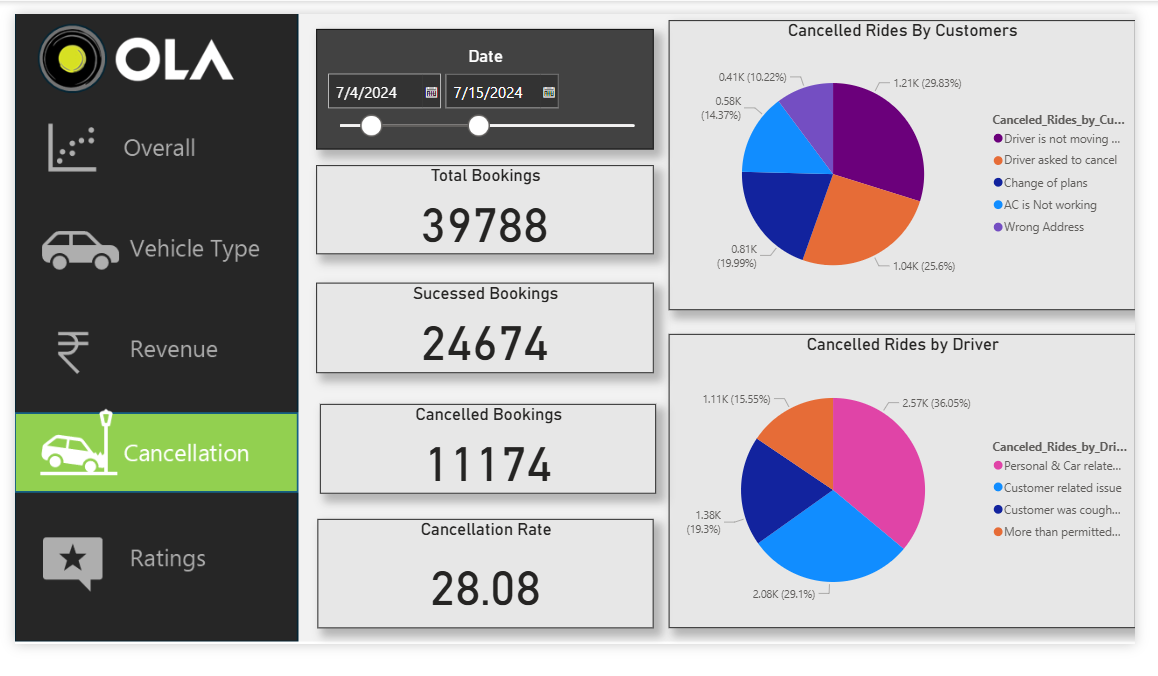

What the dashboard file says about the page in this screenshot:
{"tool":"powerbi","page":{"name":"Cancellation","canvas":[1280,720],"ordinal":3},"visuals":[{"type":"actionButton","box":[0,224.3,325.7,92.9],"z":0},{"type":"actionButton","box":[0,338.6,325.7,92.9],"z":1000},{"type":"actionButton","box":[0,455.7,325.7,92.9],"z":2000},{"type":"actionButton","box":[0,577.1,325.7,92.9],"z":3000},{"type":"actionButton","box":[0,107.1,325.7,92.9],"z":4000},{"type":"pieChart","title":"Cancelled Rides By Customers","fields":{"Category":["July (2).Canceled_Rides_by_Customer"],"Y":["CountNonNull(July (2).Canceled_Rides_by_Customer)"]},"box":[746.4,7.1,533.3,331],"z":5000},{"type":"pieChart","title":"Cancelled Rides by Driver","fields":{"Category":["July (2).Canceled_Rides_by_Driver"],"Y":["CountNonNull(July (2).Canceled_Rides_by_Driver)"]},"box":[746.4,365.5,533.3,335.7],"z":6000},{"type":"slicer","title":"Date","fields":{"Values":["July (2).Date"]},"box":[344.4,16.5,385.6,137.2],"z":7000},{"type":"card","title":"Total Bookings","fields":{"Values":["CountNonNull(July (2).Booking_ID)"]},"box":[344.4,172.9,385.6,101.5],"z":8000},{"type":"card","title":"Sucessed Bookings","fields":{"Values":["CountNonNull(July (2).Booking_ID)"]},"box":[344.4,307.4,385.6,102.9],"z":9000},{"type":"card","title":"Cancelled Bookings","fields":{"Values":["CountNonNull(July (2).Booking_ID)"]},"box":[348,445.4,384.1,102.8],"z":10000},{"type":"card","title":"Cancellation Rate","fields":{"Values":["July.CanceledPercentage"]},"box":[346.2,577.1,384.1,124.4],"z":11000}]}

Visuals, with their boxes on the page's 1280x720 design canvas (x1, y1, x2, y2). These are canvas units, not pixel positions in the 1158x676 screenshot, which may show the page scaled, cropped or inside an application window:
actionButton: (0, 224, 326, 317)
actionButton: (0, 339, 326, 432)
actionButton: (0, 456, 326, 549)
actionButton: (0, 577, 326, 670)
actionButton: (0, 107, 326, 200)
"Cancelled Rides By Customers" pieChart: (746, 7, 1280, 338)
"Cancelled Rides by Driver" pieChart: (746, 366, 1280, 701)
"Date" slicer: (344, 16, 730, 154)
"Total Bookings" card: (344, 173, 730, 274)
"Sucessed Bookings" card: (344, 307, 730, 410)
"Cancelled Bookings" card: (348, 445, 732, 548)
"Cancellation Rate" card: (346, 577, 730, 702)
